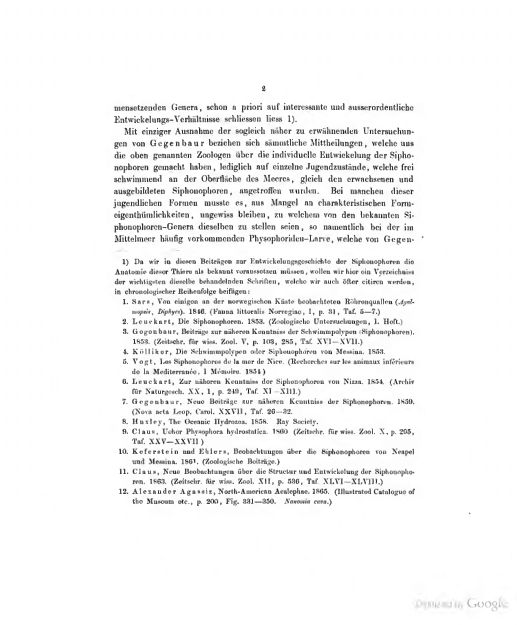MainZone: (103, 96, 430, 512)
NoiseZone: (405, 586, 517, 625)
NumberingZone_page: (252, 78, 278, 98)
